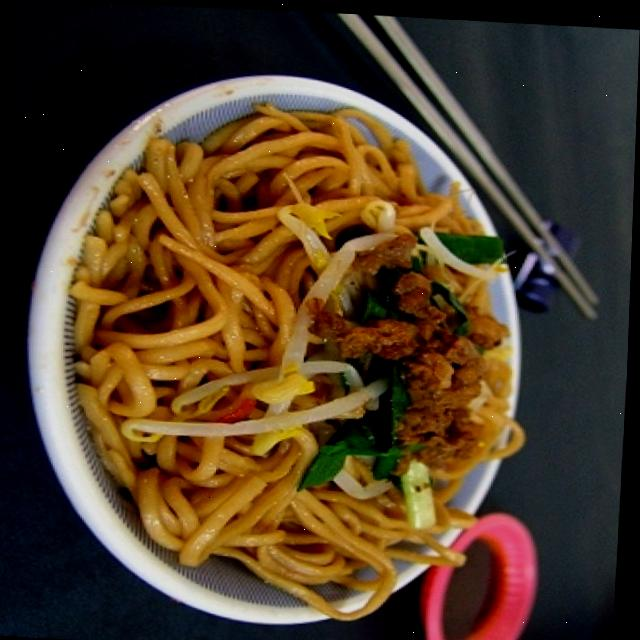面条主食: (39, 78, 556, 619)
